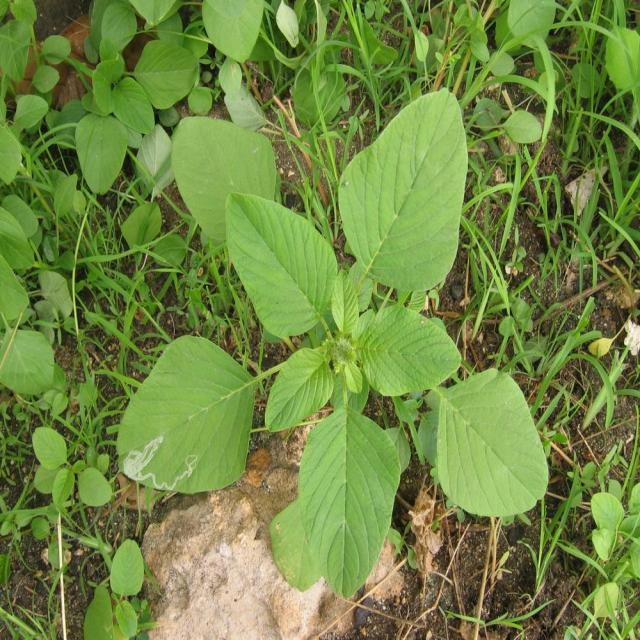Medicinal-Arive Dantu: (118, 89, 549, 596)
